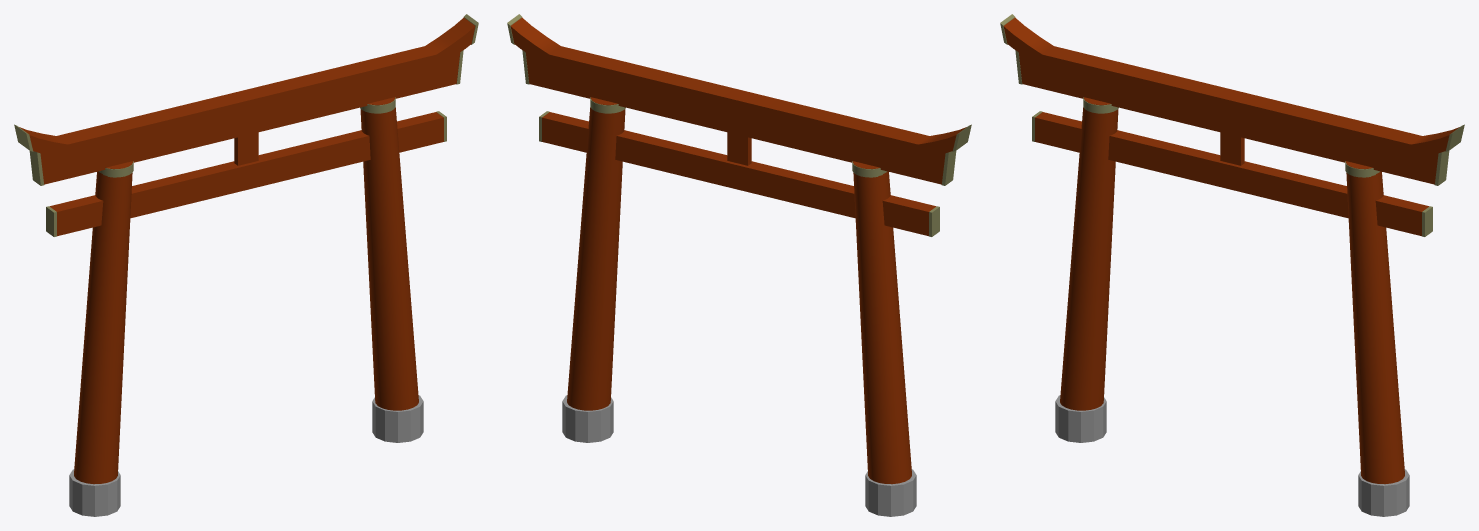
Rendered from torii.fbx.
3 views of the same model, side by side, from view 1: azimuth 30°, elevation 25°; view 2: azimuth 150°, elevation 25°; view 3: azimuth 330°, elevation 25° (orthographic).
Parts seen in each view (by area): view 1: pCube8; view 2: pCube8; view 3: pCube8.
Part boxes in pixels (bbox=[...]): pCube8: bbox=[14, 14, 478, 516]; pCube8: bbox=[507, 14, 971, 516]; pCube8: bbox=[1000, 14, 1464, 516].
Bounding box in the file's own units: 204 × 170 × 20.
